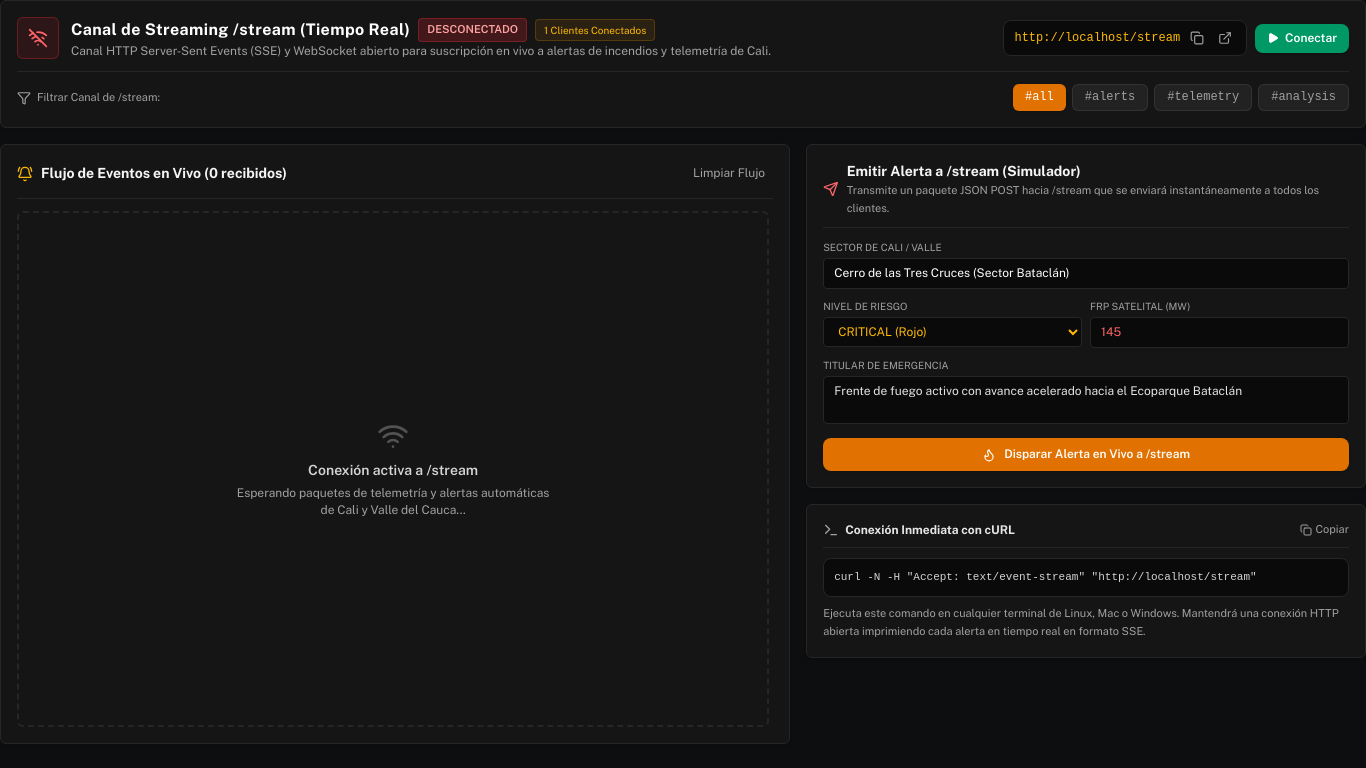
StreamLiveChannel › transmite la alerta de prueba por POST /stream y confirma
Click the button "Disparar Alerta en Vivo a /stream".
click(1086, 455)  # box [823, 438, 1349, 471]
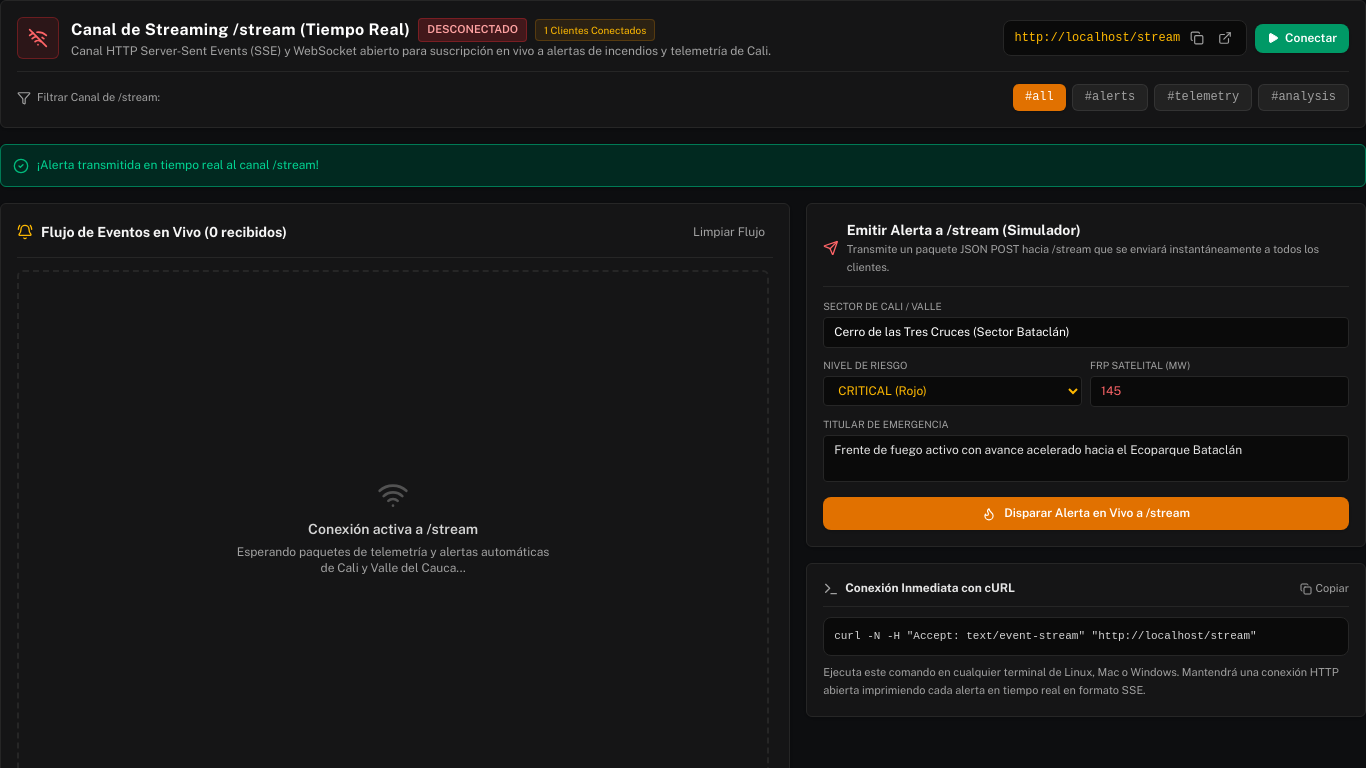
Now the message shows "¡Alerta transmitida en tiempo real", box [37, 158, 319, 172]
